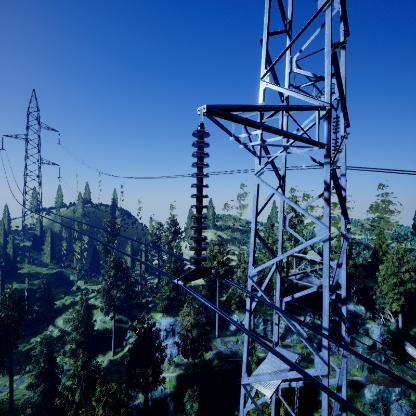insulator: (187, 128, 212, 271)
tower: (0, 88, 64, 236)
